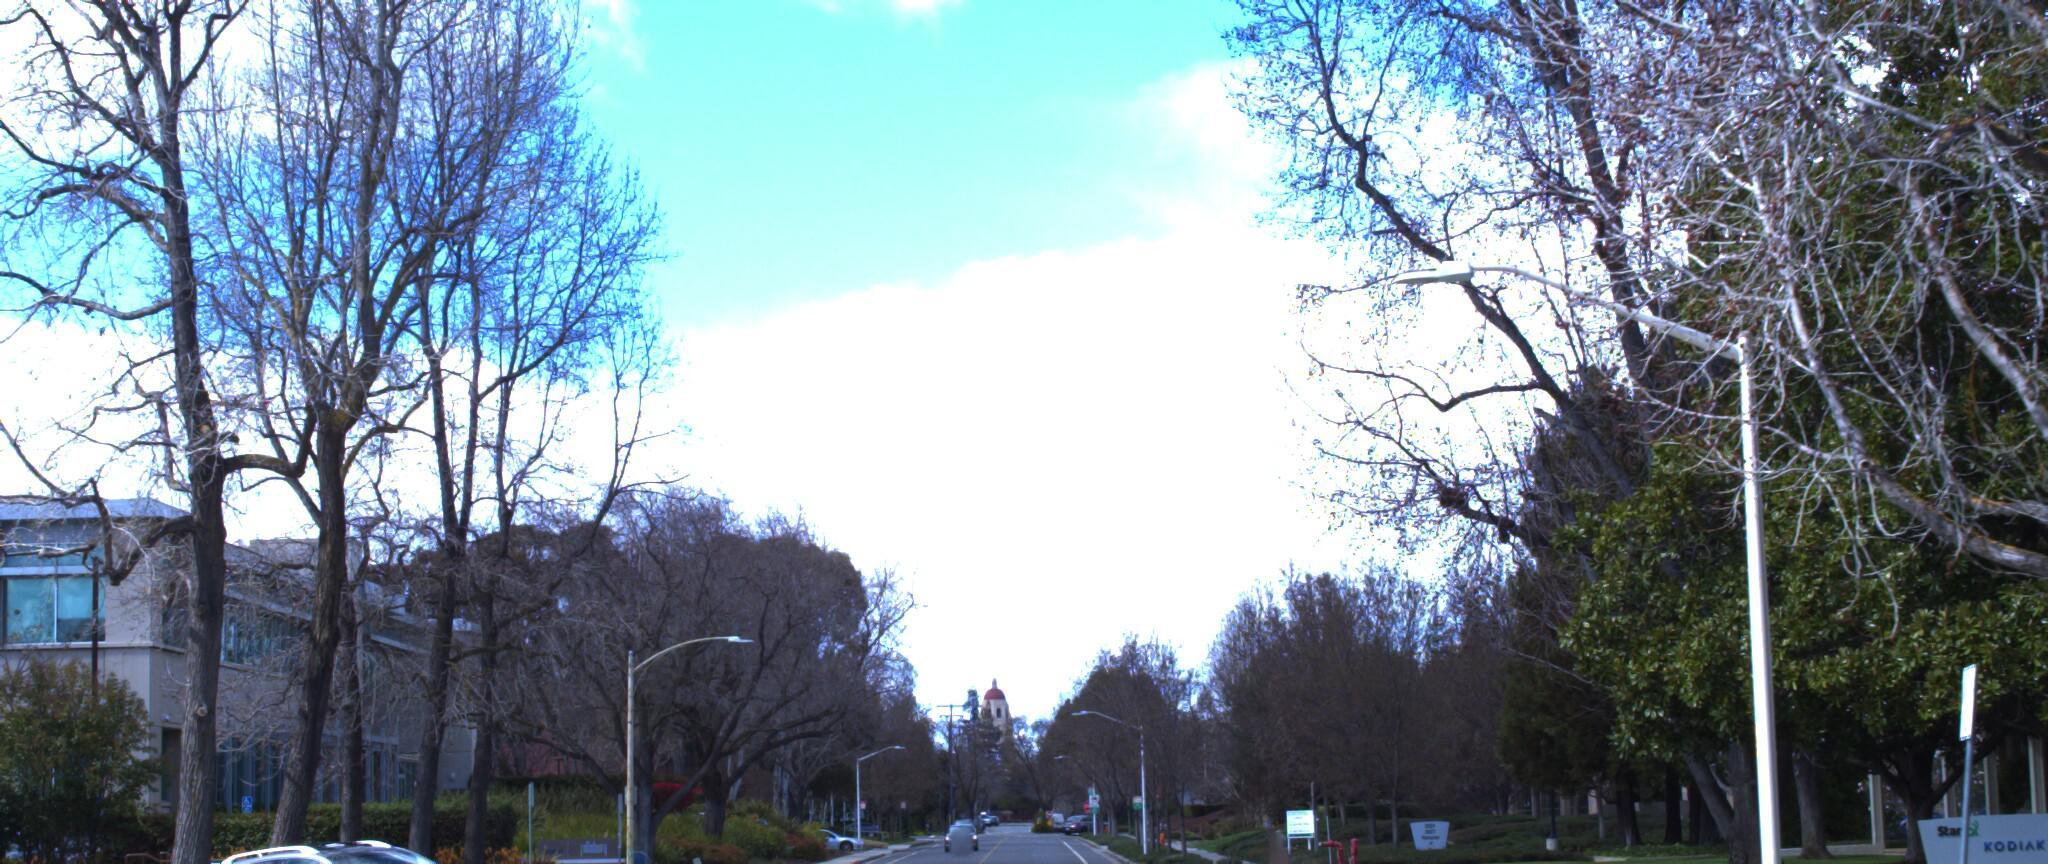car: (138, 826, 573, 864), (0, 856, 300, 864)
